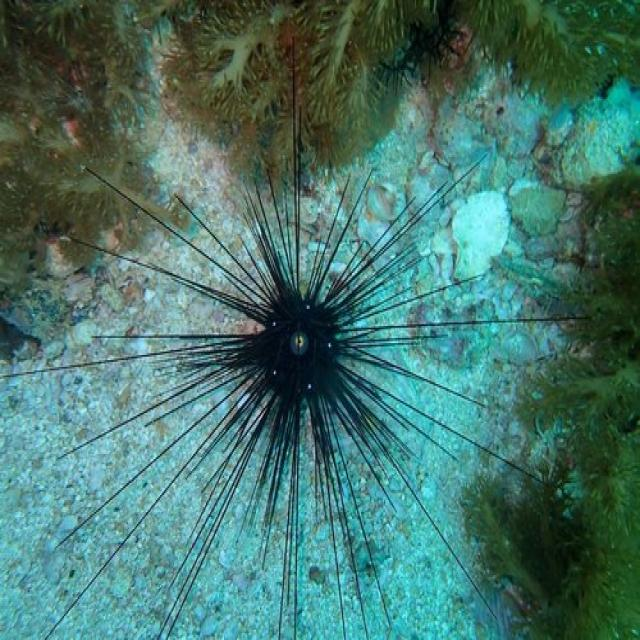Urchin: (57, 50, 550, 616)
